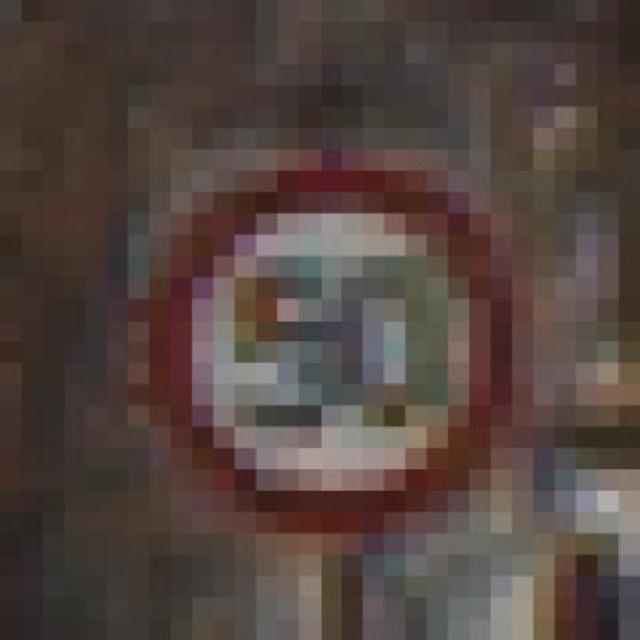50 mph speed limit: (128, 128, 512, 555)
